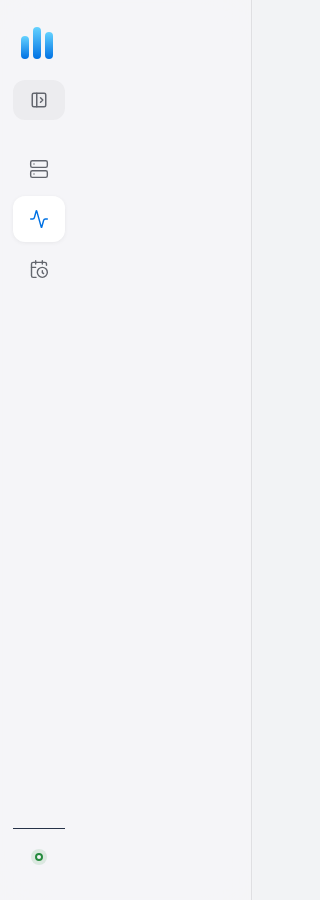
temporarily expands for keyboard navigation and Escape returns focus to the pin control
Focus the link named "主機監控" at [39, 169], box left=29, top=159, right=49, bottom=179
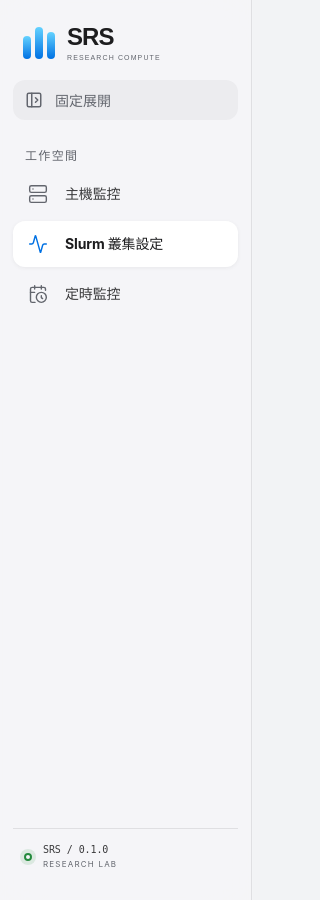
Result: the element named "主要導覽" has class "sidebar-preview"
Press Escape in the element named "主要導覽"
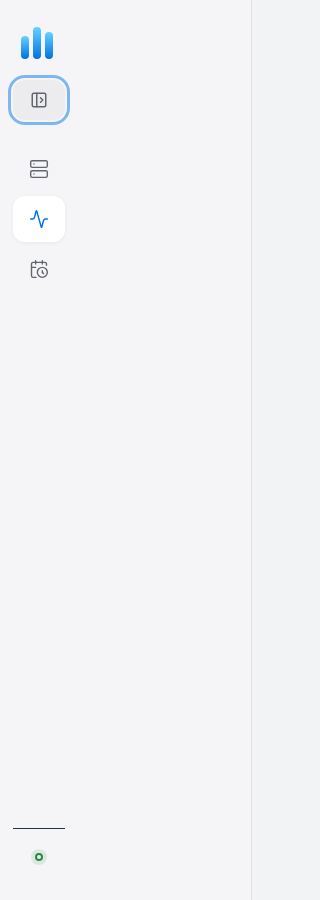
Result: the element named "主要導覽" has class "sidebar-rail"
